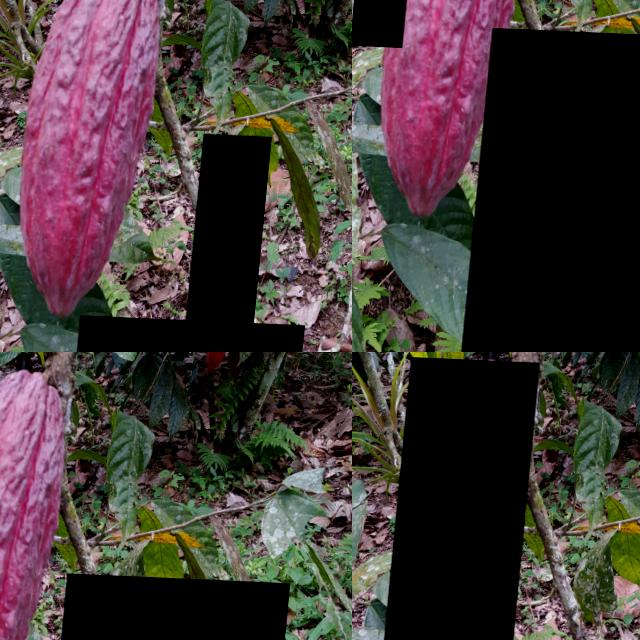Monilia: (193, 131, 276, 330)
Sana: (465, 25, 640, 352), (384, 355, 540, 640)
